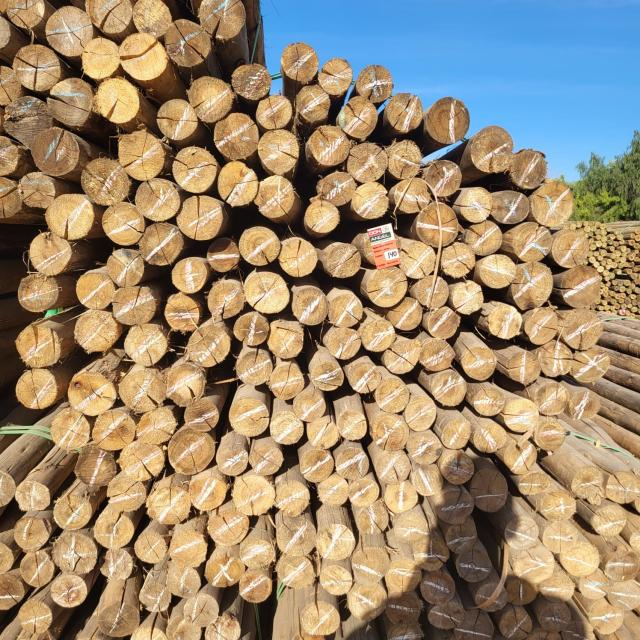package: (19, 46, 584, 592), (268, 437, 637, 640), (0, 1, 264, 215), (2, 458, 266, 638), (580, 221, 622, 275), (597, 281, 640, 326)
